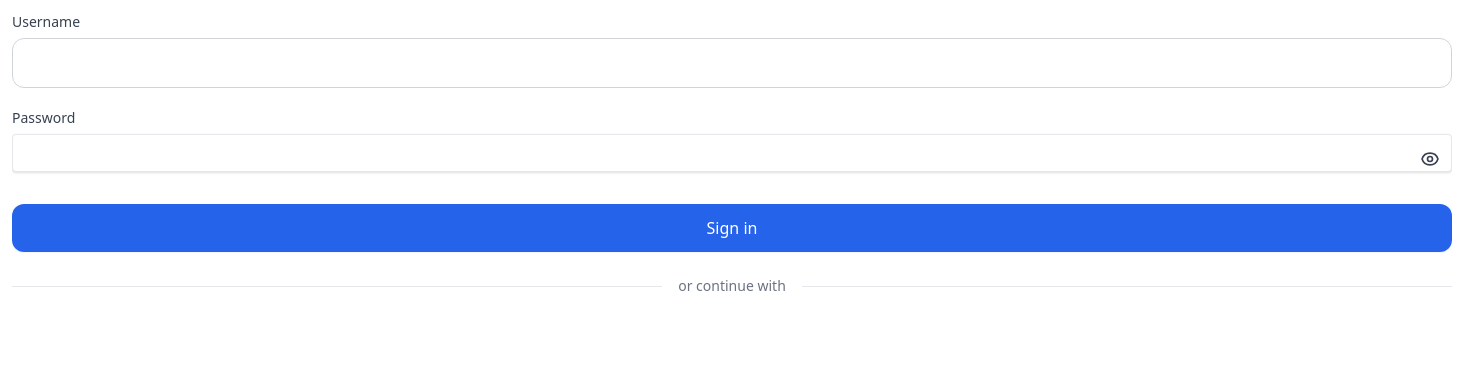
Test: 0_Render Login Component › API Integration › should show error message on login failure
Type "testuser" into the field named "username" at (732, 63), box [12, 38, 1452, 88]
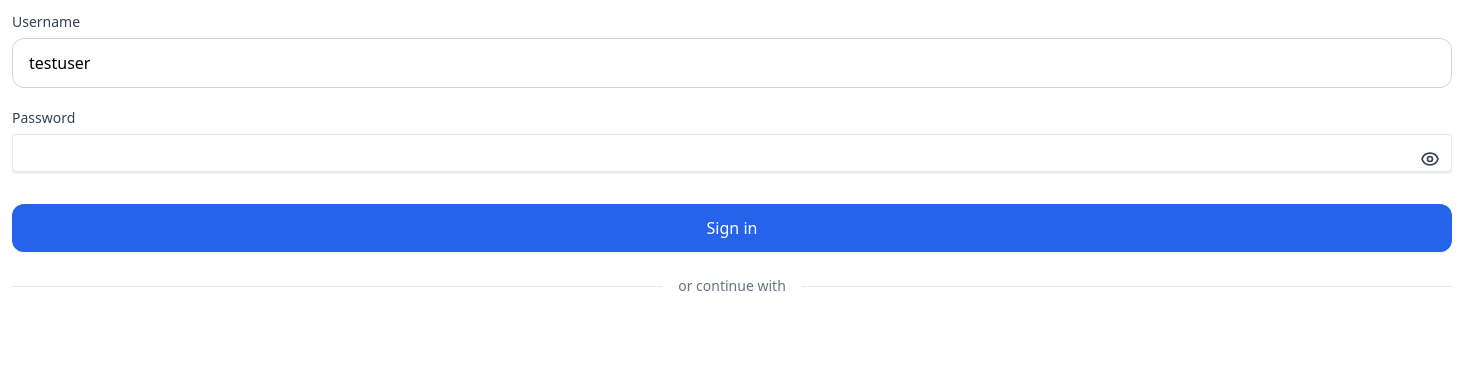
Type "wrongpassword" into the password field named "password" at (732, 153), box [12, 134, 1452, 172]
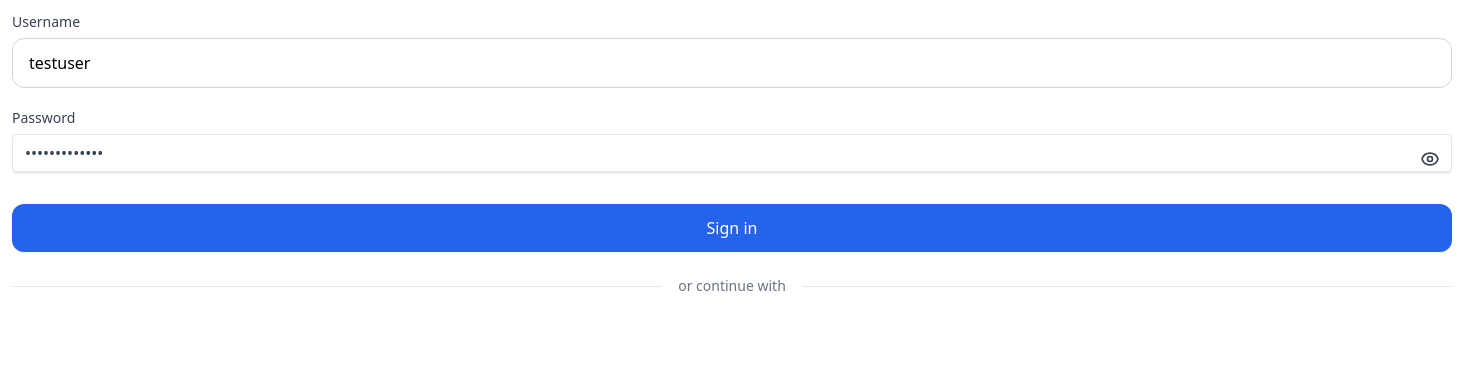
Click the button "Sign in" at (732, 228), box [12, 204, 1452, 252]
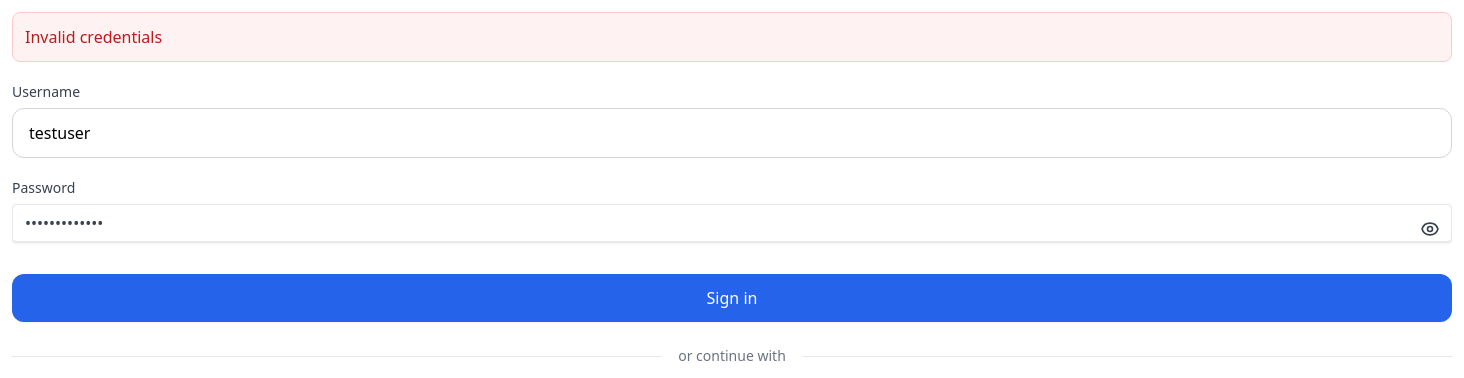
Now the text "Invalid credentials" is shown, box [12, 12, 1452, 62]
